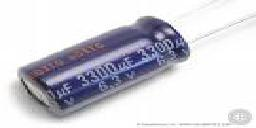Electrolytic-Capacitor: (13, 1, 256, 113)
